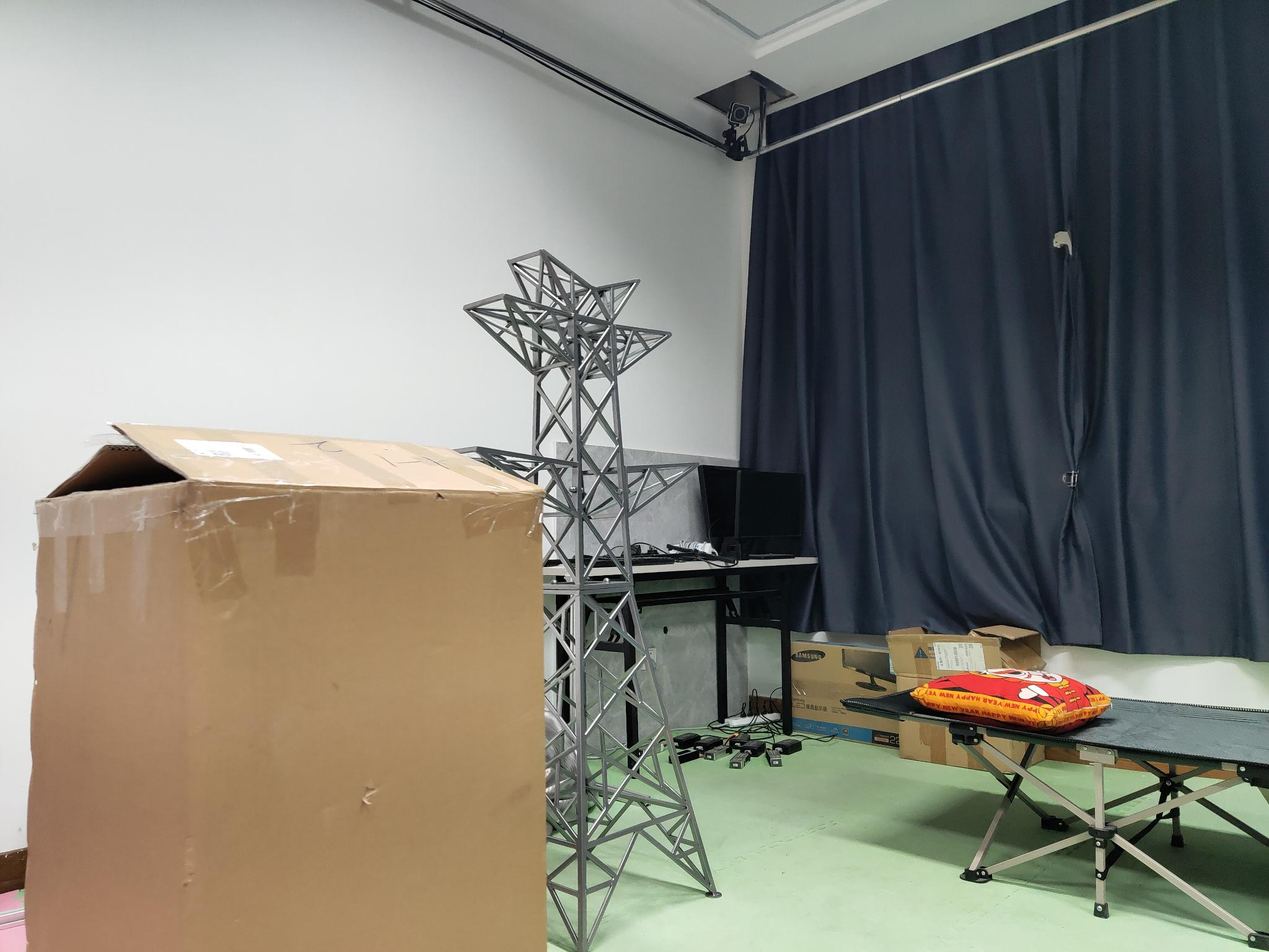tower: (540, 231, 716, 946)
